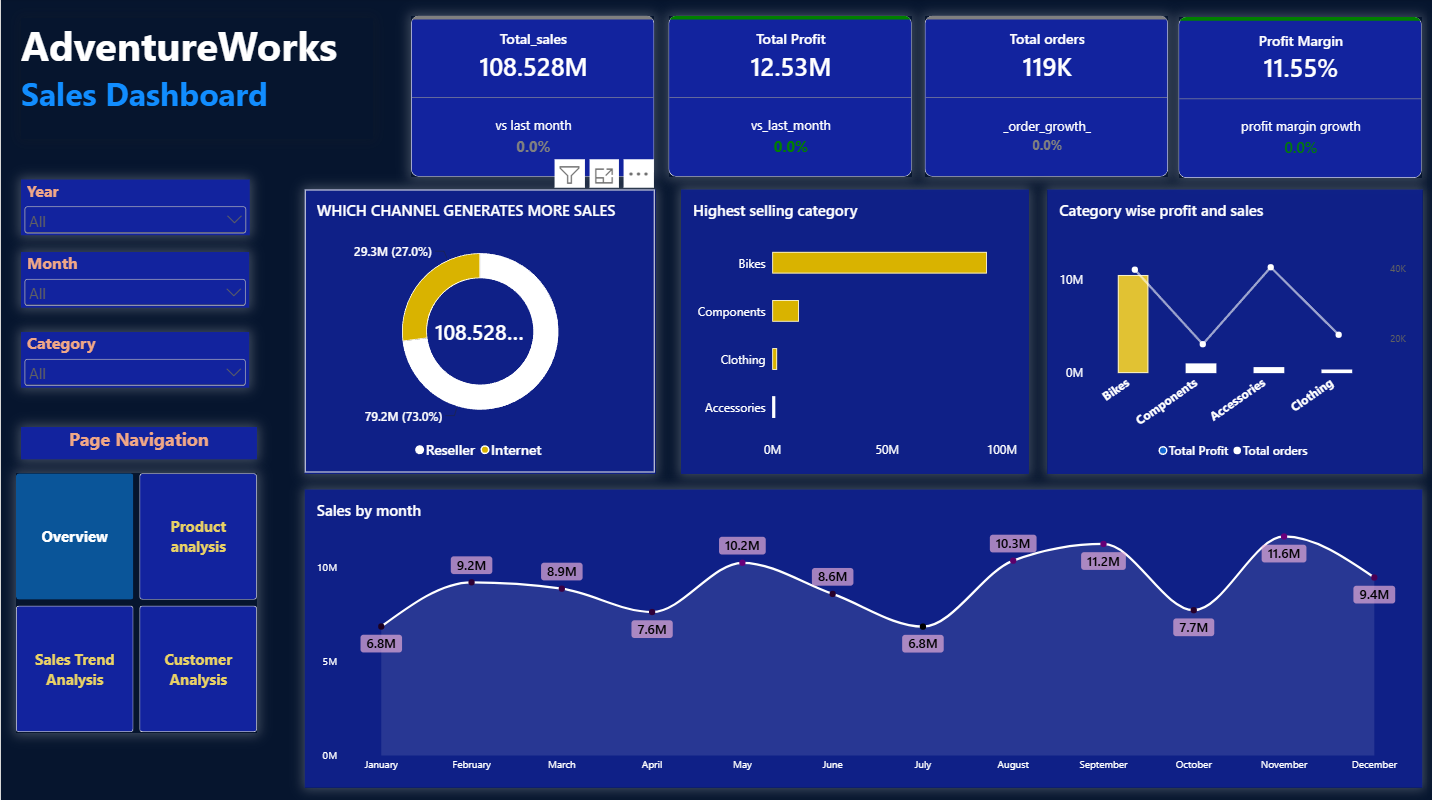

The dashboard page shown, as its layout file describes it:
{"tool":"powerbi","page":{"name":"Overview","canvas":[1920,1080],"ordinal":0},"visuals":[{"type":"cardVisual","fields":{"Data":["Sales.Total_sales"]},"box":[548.3,25.3,325,215],"z":0},{"type":"cardVisual","fields":{"Data":["Sales.Total Profit"]},"box":[892.2,25.3,325,215],"z":1000},{"type":"slicer","fields":{"Values":["Date.Date.Variation.Date Hierarchy.Year"]},"box":[27.1,244.3,305.9,74.4],"z":2000},{"type":"slicer","fields":{"Values":["Date.Date.Variation.Date Hierarchy.Month"]},"box":[27.1,340.8,305,74],"z":3000},{"type":"cardVisual","fields":{"Data":["Sales.total orders"]},"box":[1234.2,25.3,325,215],"z":4000},{"type":"cardVisual","fields":{"Data":["Sales.Profit Margin"]},"box":[1572.6,27.1,325,215],"z":5000},{"type":"donutChart","title":"WHICH CHANNEL GENERATES MORE SALES","fields":{"Category":["Sales.Channel"],"Y":["Sales.Total_sales"]},"box":[405.4,257,468.7,380],"z":6000},{"type":"areaChart","title":"Sales by month","fields":{"Category":["Date.Full Date.Variation.Date Hierarchy.Month"],"Y":["Sales.Total_sales"]},"box":[405.4,658.7,1493,398.1],"z":7000},{"type":"barChart","title":"Highest selling category","fields":{"Category":["Product.Category"],"Y":["Sales.Total_sales"]},"box":[908.4,257,465.1,380],"z":8000},{"type":"lineClusteredColumnComboChart","title":"Category wise profit and sales","fields":{"Category":["Product.Category"],"Y":["Sales.Total Profit"],"Y2":["Sales.total orders"]},"box":[1397.1,257,501.3,380],"z":9000},{"type":"textbox","box":[27.1,29,470.5,161.1],"z":10000},{"type":"pageNavigator","box":[19.9,637,322.1,347.5],"z":11000},{"type":"textbox","box":[27.1,573.7,314.9,43.4],"z":12000},{"type":"slicer","fields":{"Values":["Product.Category"]},"box":[27.1,447,305,74],"z":13000}]}

Visuals, with their boxes in screenshot pixels (x1, y1, x2, y2), scaled from the page's 1920x1080 canvas onto the 1432x800 screenshot:
cardVisual - Sales.Total_sales: [409,19,651,178]
cardVisual - Sales.Total Profit: [665,19,908,178]
slicer - Date.Date.Variation.Date Hierarchy.Year: [20,181,248,236]
slicer - Date.Date.Variation.Date Hierarchy.Month: [20,252,248,307]
cardVisual - Sales.total orders: [921,19,1163,178]
cardVisual - Sales.Profit Margin: [1173,20,1415,179]
"WHICH CHANNEL GENERATES MORE SALES" donutChart: [302,190,652,472]
"Sales by month" areaChart: [302,488,1416,783]
"Highest selling category" barChart: [678,190,1024,472]
"Category wise profit and sales" lineClusteredColumnComboChart: [1042,190,1416,472]
textbox: [20,21,371,141]
pageNavigator: [15,472,255,729]
textbox: [20,425,255,457]
slicer - Product.Category: [20,331,248,386]
